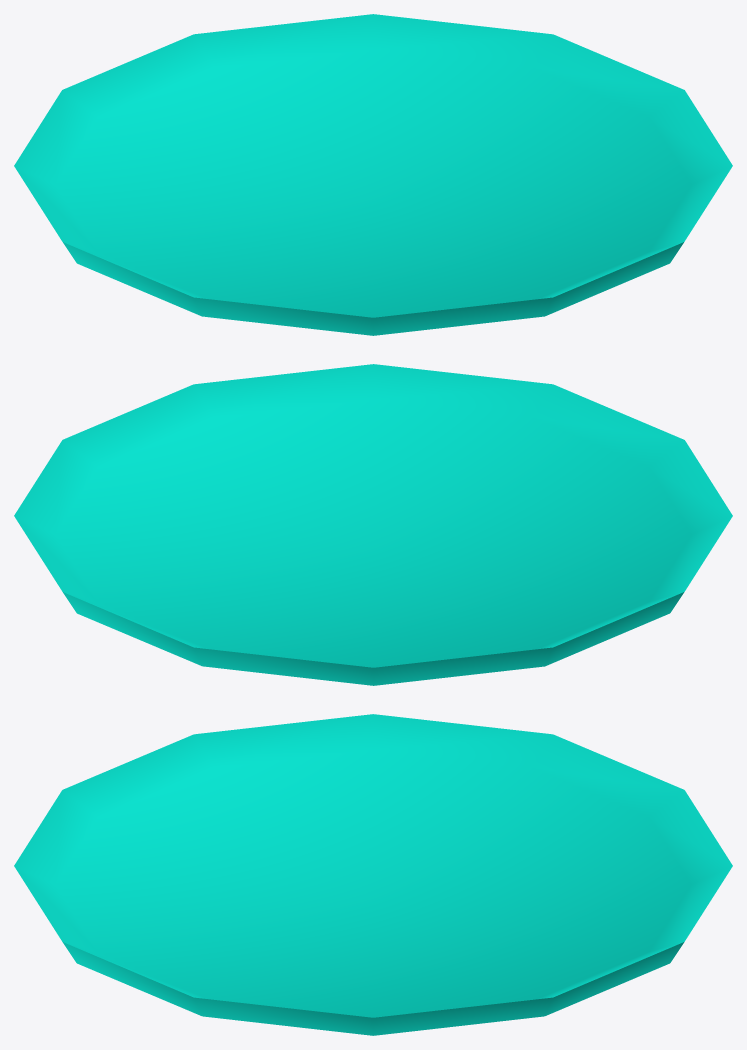
File: kitchen_Plate.fbx
3 renders of one model, top to bottom at view 1: azimuth 30°, elevation 25°; view 2: azimuth 150°, elevation 25°; view 3: azimuth 270°, elevation 25°, orthographic.
Visible parts, largest first — view 1: kitchen_plate; view 2: kitchen_plate; view 3: kitchen_plate.
Boxes of the visible parts, <box> form: kitchen_plate: <box>14,14,732,335</box>; kitchen_plate: <box>14,364,732,685</box>; kitchen_plate: <box>14,714,732,1035</box>.
Bounding box in the file's own units: 1.71 × 0.0883 × 1.71.
